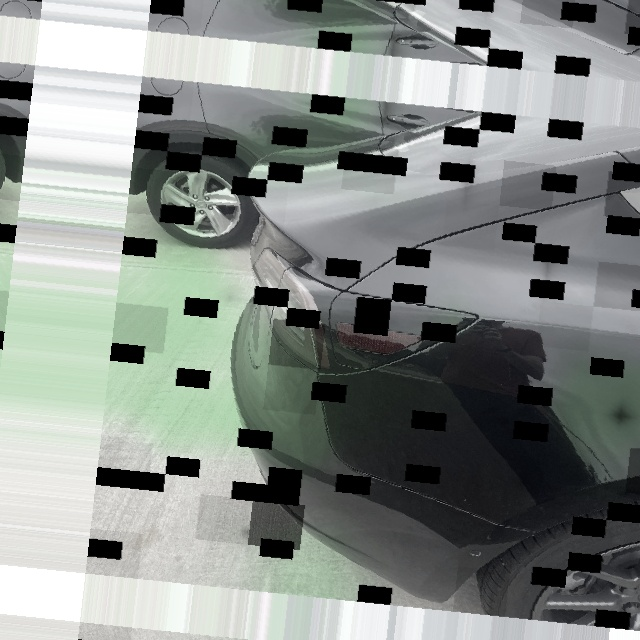reflector: (332, 321, 426, 358)
